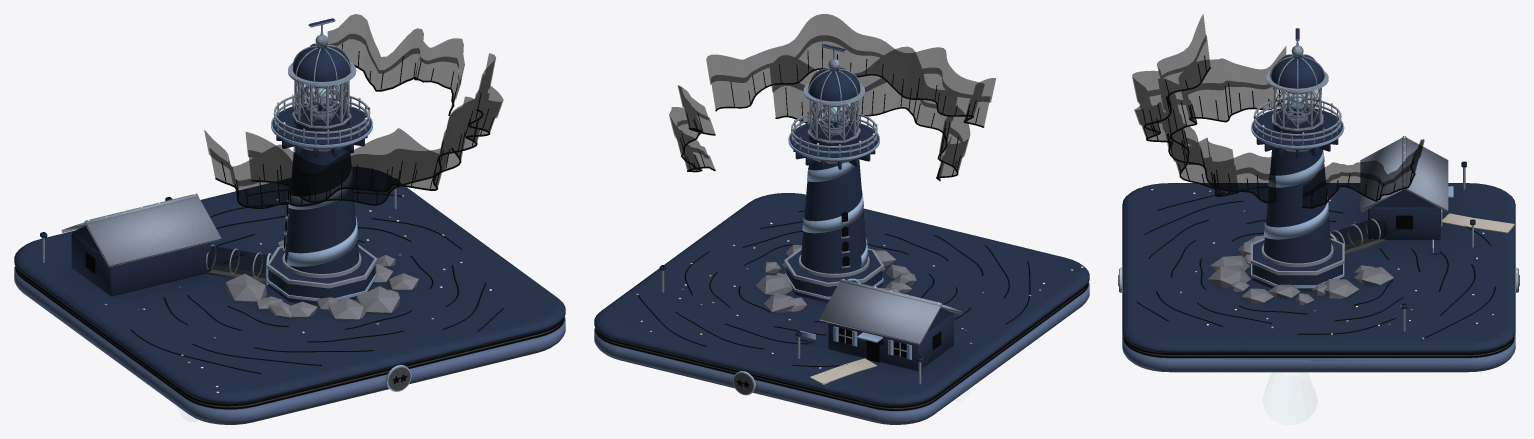
File: SM_Evo_ShieldDome.fbx
The picture shows the model from 3 angles, left to right: view 1: azimuth 30°, elevation 25°; view 2: azimuth 150°, elevation 25°; view 3: azimuth 270°, elevation 25°; orthographic projection. The views are drawn at different scales.
Parts seen in each view (by area): view 1: SMN_Evo_ShieldDome, Emblem_Fx_ShieldDome; view 2: SMN_Evo_ShieldDome, Emblem_Fx_ShieldDome; view 3: SMN_Evo_ShieldDome, Emblem_Fx_ShieldDome.
Boxes of the visible parts, <box> form: SMN_Evo_ShieldDome: <box>14,32,565,424</box>; Emblem_Fx_ShieldDome: <box>15,14,564,409</box>; SMN_Evo_ShieldDome: <box>594,56,1089,424</box>; Emblem_Fx_ShieldDome: <box>595,14,1088,410</box>; SMN_Evo_ShieldDome: <box>1119,43,1518,372</box>; Emblem_Fx_ShieldDome: <box>1118,14,1519,357</box>.
Bounding box in the file's own units: 1.84 × 1.7 × 1.88.
